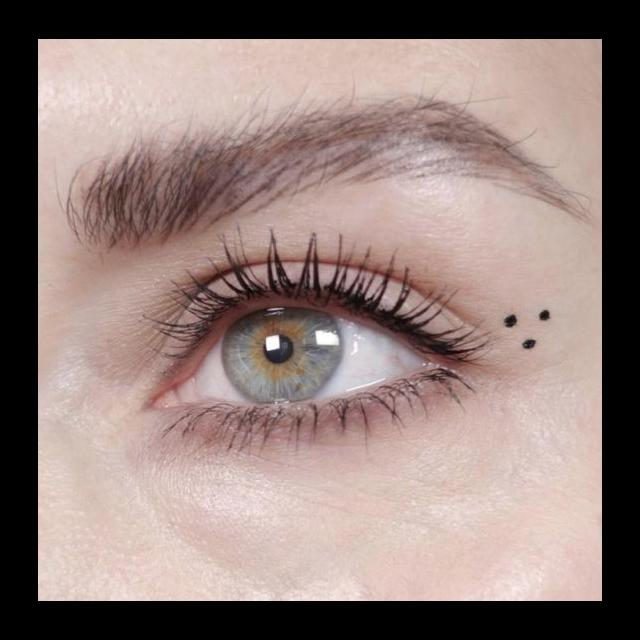eye: (186, 294, 429, 407)
iris: (223, 305, 346, 402)
